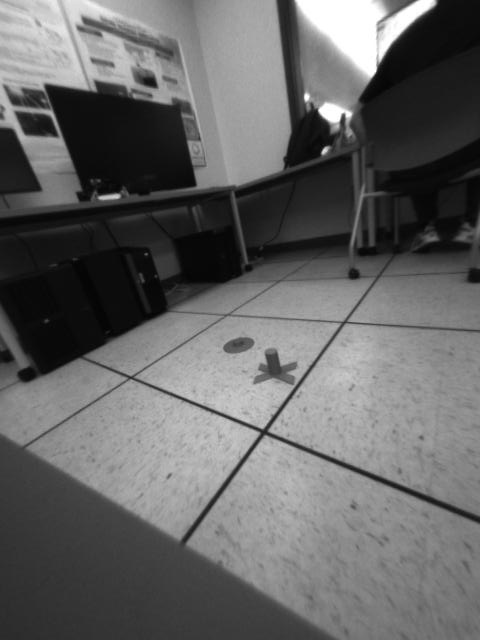X: (254, 348, 298, 384)
